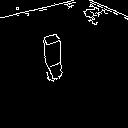cube: (36, 27, 70, 78)
